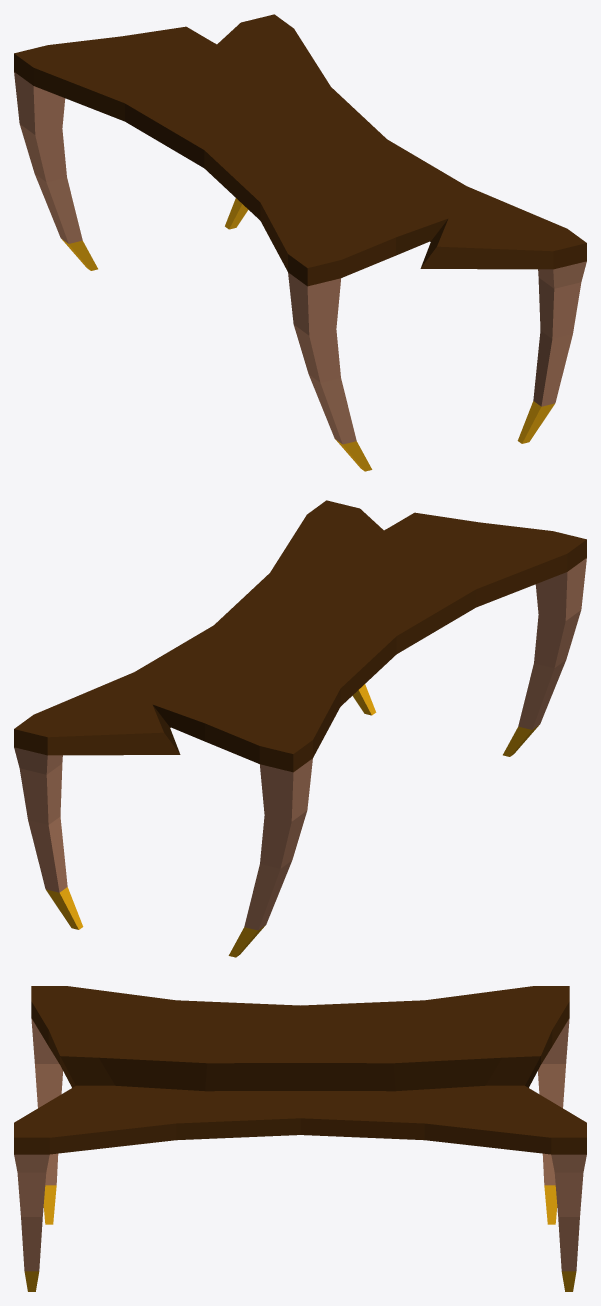
File: Entry_Table_Model.fbx
3 renders of one model, top to bottom at view 1: azimuth 30°, elevation 25°; view 2: azimuth 150°, elevation 25°; view 3: azimuth 270°, elevation 25°, orthographic. The views are drawn at different scales.
Visible parts, largest first — view 1: 25_EntryTable; view 2: 25_EntryTable; view 3: 25_EntryTable.
Boxes of the visible parts, <box> form: 25_EntryTable: <box>14,14,586,471</box>; 25_EntryTable: <box>14,500,586,957</box>; 25_EntryTable: <box>14,986,586,1291</box>.
Bounding box in the file's own units: 410 × 164 × 205.
